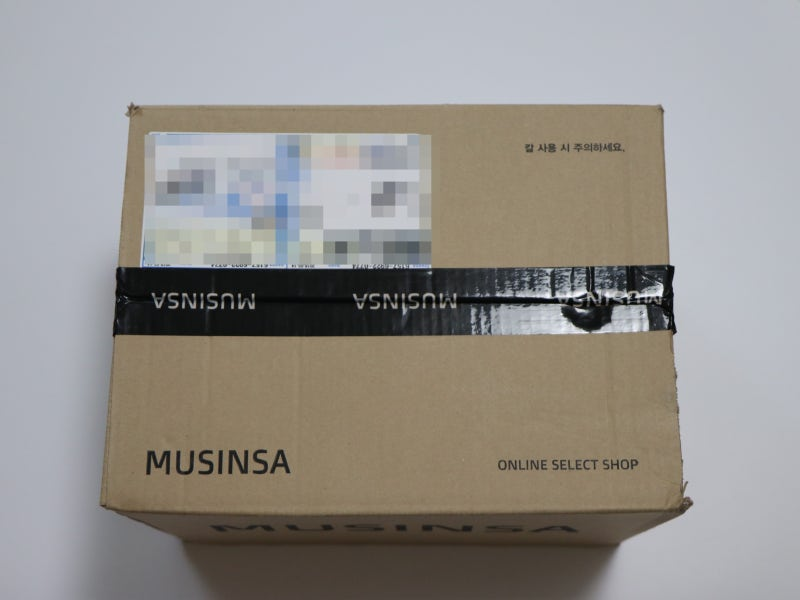undamaged: (101, 93, 696, 551)
